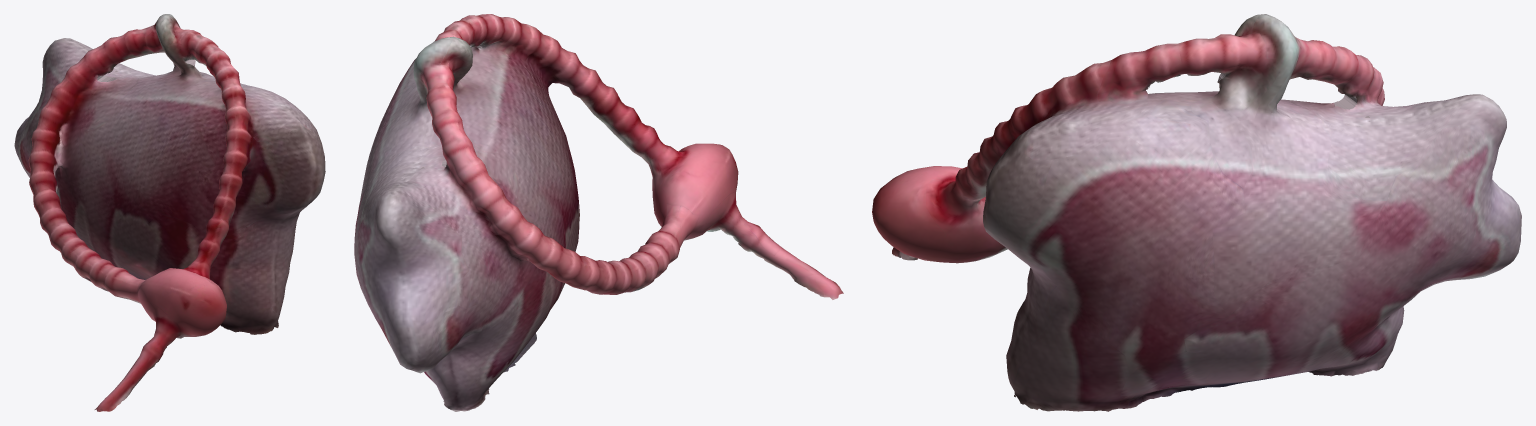
Rendered from mypeeg.glb.
3 renders of one model, left to right at view 1: azimuth 30°, elevation 25°; view 2: azimuth 150°, elevation 25°; view 3: azimuth 270°, elevation 25°, orthographic. The views are drawn at different scales.
Parts seen in each view (by area): view 1: textured.001; view 2: textured.001; view 3: textured.001.
Boxes of the visible parts, x1=… form: textured.001: x1=14, y1=14, x2=325, y2=411; textured.001: x1=354, y1=14, x2=843, y2=411; textured.001: x1=872, y1=14, x2=1521, y2=411.
Bounding box in the file's own units: 1.54 × 1.39 × 2.14.
Materials: 1 (1 with a texture image).
